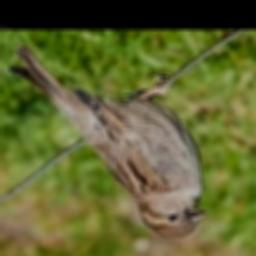Sparrow: (9, 46, 207, 238)
